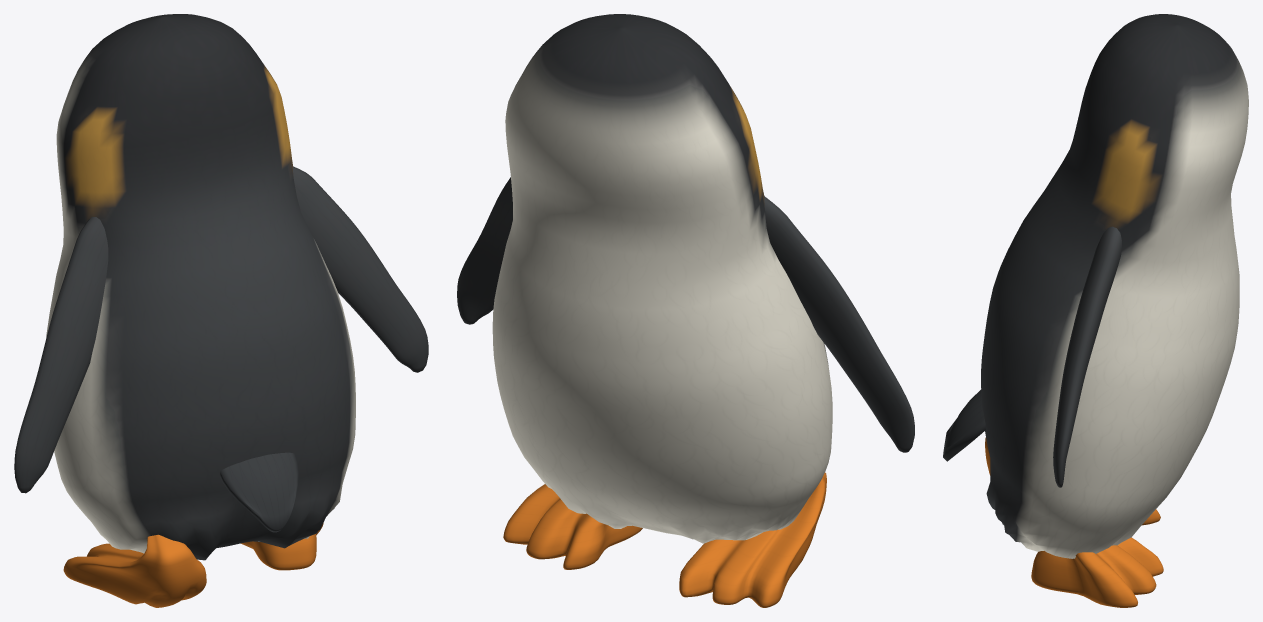
File: candidate.glb
3 renders of one model, left to right at view 1: azimuth 30°, elevation 25°; view 2: azimuth 150°, elevation 25°; view 3: azimuth 270°, elevation 25°, orthographic. The views are drawn at different scales.
Parts seen in each view (by area): view 1: RearBlockout; view 2: RearBlockout; view 3: RearBlockout.
Boxes of the visible parts, bbox=[...] form: RearBlockout: bbox=[14, 14, 428, 607]; RearBlockout: bbox=[457, 14, 914, 607]; RearBlockout: bbox=[943, 14, 1248, 607].
Size of the model in its own units: 1.42 by 1.69 by 0.8989.
1 material, 1 textured.
